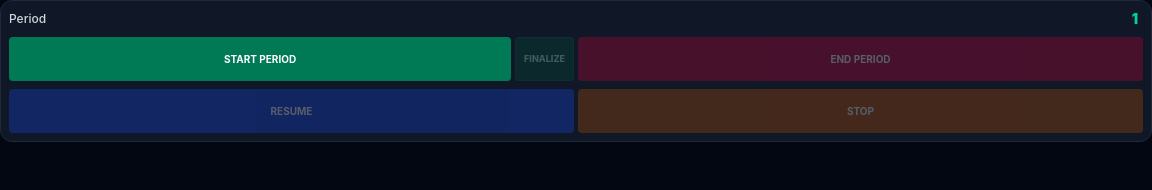
Scenario: MatchLifecyclePanel Component Integration & State Machine › should show error message if selected starting ids length does not match active players limit
Expected: the text "1" is shown, [1132,10,1138,27]
Click the button "START PERIOD" at (260, 59), box [9,37,511,81]
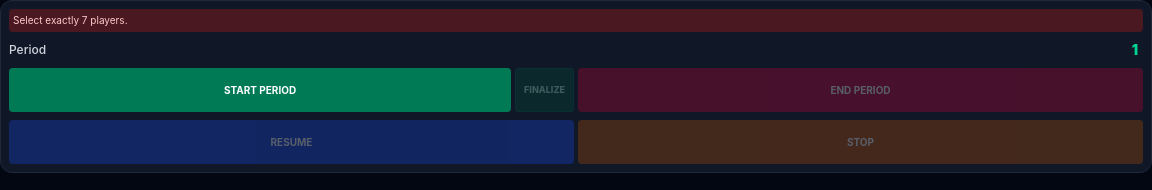
Now the text "Select exactly 7 players." is shown, box [9,9,1143,32]
